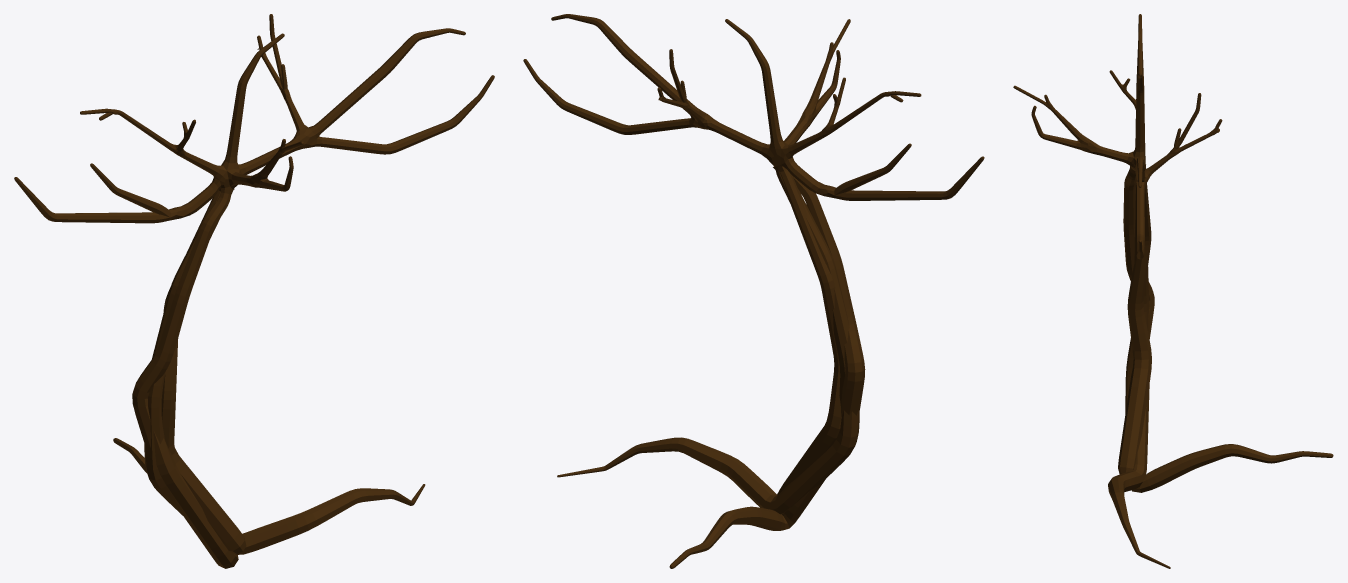
Rendered from fa_gyokeres1.fbx.
The picture shows the model from 3 angles, left to right: view 1: azimuth 30°, elevation 25°; view 2: azimuth 150°, elevation 25°; view 3: azimuth 270°, elevation 25°; orthographic projection. The views are drawn at different scales.
Visible parts, largest first — view 1: Tree:_big_001; view 2: Tree:_big_001; view 3: Tree:_big_001.
Part boxes in pixels (bbox=[...]): Tree:_big_001: bbox=[14, 14, 494, 568]; Tree:_big_001: bbox=[523, 14, 984, 568]; Tree:_big_001: bbox=[1013, 14, 1333, 568].
Bounding box in the file's own units: 42.38 × 43.72 × 28.7.
